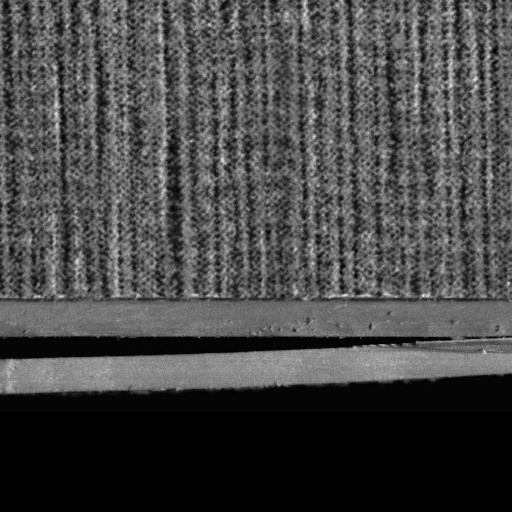kaijiao: (0, 298, 510, 398)
